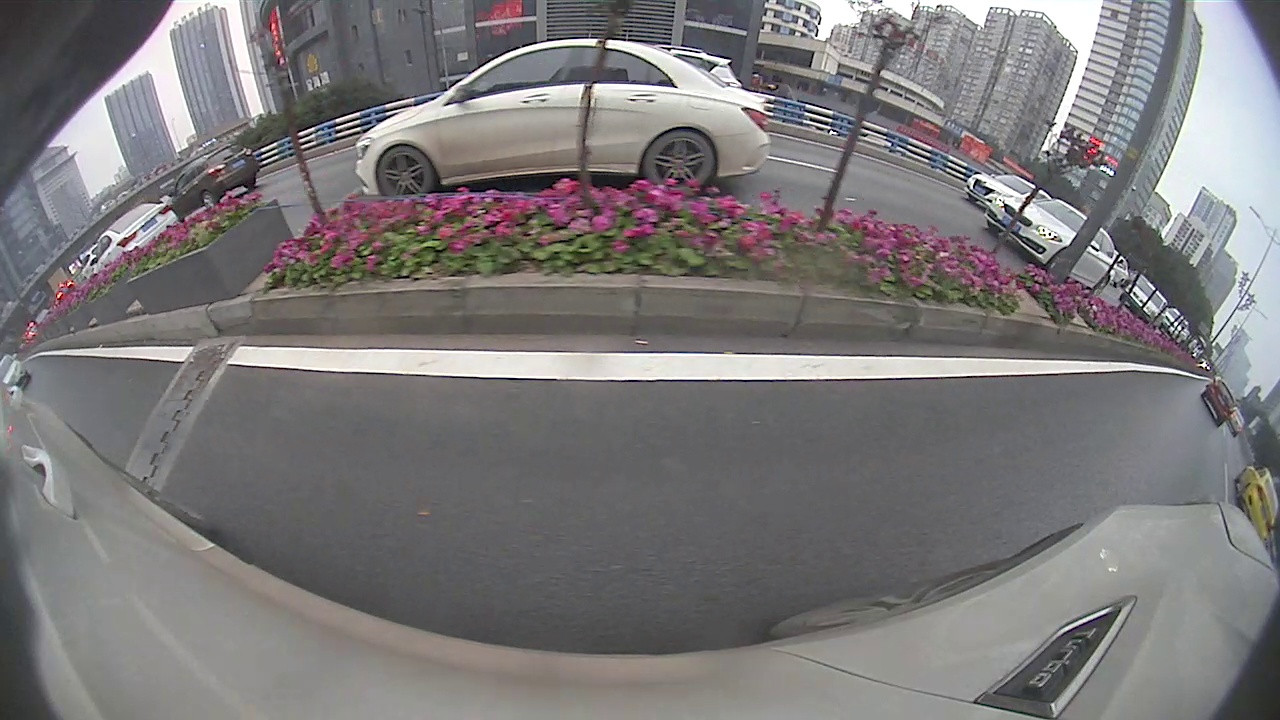car: (353, 38, 772, 192), (986, 197, 1117, 299), (91, 203, 177, 278), (167, 145, 260, 213), (1200, 378, 1237, 428)
front: (373, 142, 440, 193)
rear: (641, 126, 716, 193), (201, 189, 215, 207)
